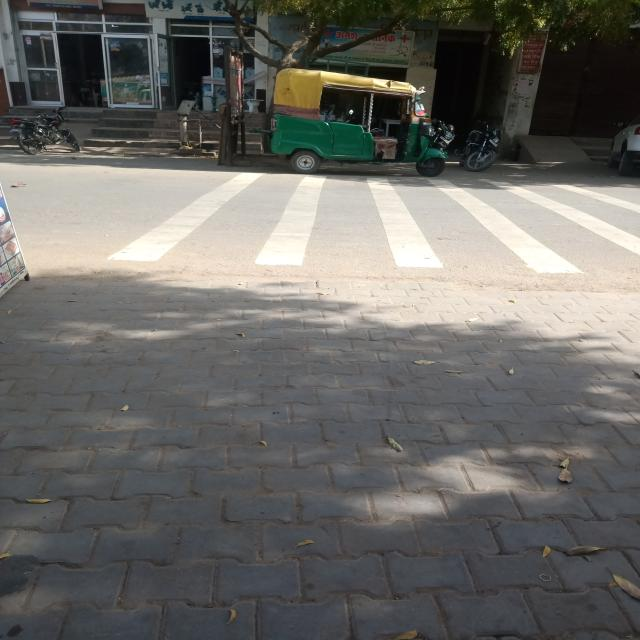Bike: (5, 103, 85, 158), (464, 122, 506, 172), (429, 120, 458, 160)
Car: (601, 109, 640, 180)
tempo: (266, 66, 446, 187)
